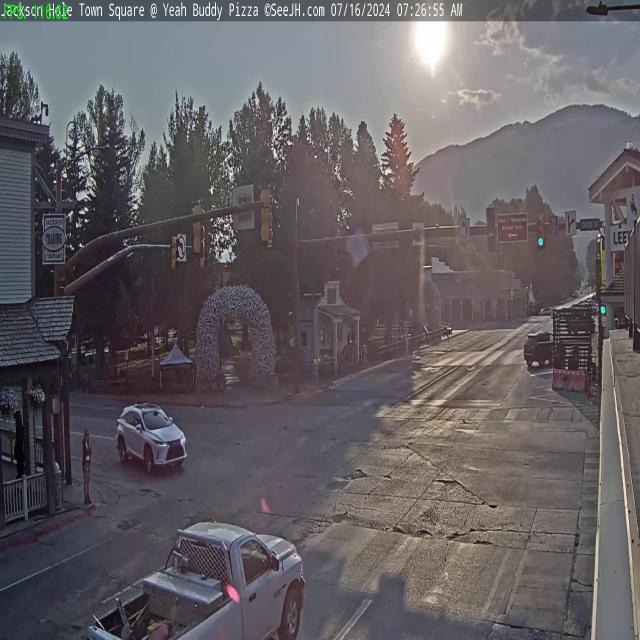person: (81, 427, 92, 509)
pickup: (75, 518, 307, 639)
suv: (114, 400, 187, 478), (523, 326, 557, 375)
traffic light: (190, 199, 204, 256), (261, 184, 273, 245), (486, 208, 497, 254), (168, 230, 178, 278), (537, 214, 545, 248)
